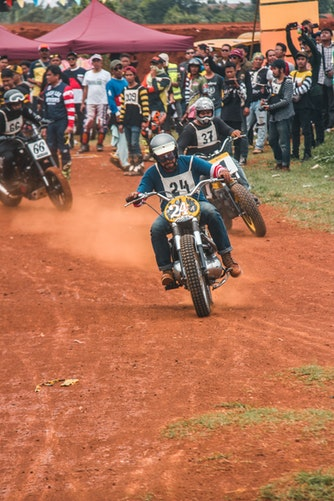helmet: (148, 135, 182, 167), (192, 97, 217, 123), (4, 92, 32, 115)
